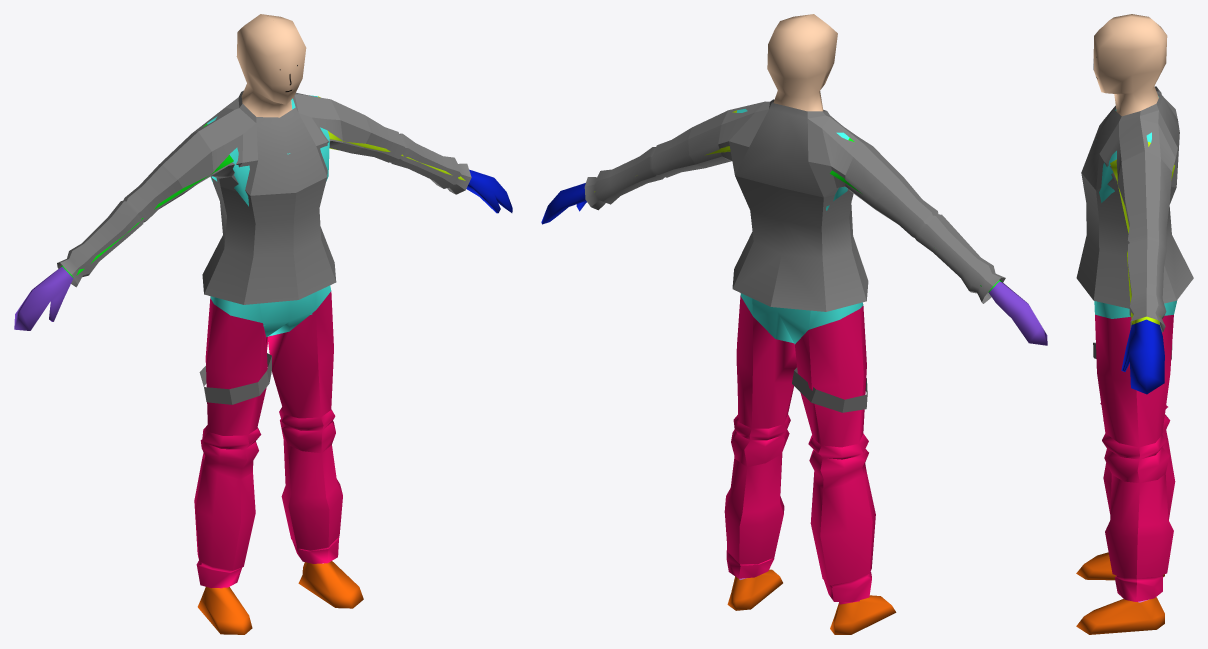
The model's file is Naomi.obj.
3 renders of one model, left to right at view 1: azimuth 30°, elevation 25°; view 2: azimuth 150°, elevation 25°; view 3: azimuth 270°, elevation 25°, orthographic.
Parts seen in each view (by area): view 1: pCylinder3, pasted__HumanoidBase_NotOverlapping group, HumanoidBase_NotOverlapping, pCylinder4; view 2: pCylinder3, pasted__HumanoidBase_NotOverlapping group, HumanoidBase_NotOverlapping, pCylinder4; view 3: pCylinder3, pasted__HumanoidBase_NotOverlapping group, HumanoidBase_NotOverlapping.
Part boxes in pixels (<box>): pCylinder3: <box>57,90,471,304</box>; pasted__HumanoidBase_NotOverlapping group: <box>194,285,342,588</box>; HumanoidBase_NotOverlapping: <box>14,14,512,634</box>; pCylinder4: <box>199,353,271,404</box>; pCylinder3: <box>584,99,1005,311</box>; pasted__HumanoidBase_NotOverlapping group: <box>724,293,875,602</box>; HumanoidBase_NotOverlapping: <box>541,14,1047,634</box>; pCylinder4: <box>792,367,867,412</box>; pCylinder3: <box>1076,86,1193,332</box>; pasted__HumanoidBase_NotOverlapping group: <box>1094,300,1177,601</box>; HumanoidBase_NotOverlapping: <box>1076,14,1174,634</box>.
Size of the model in its own units: 130 by 146 by 26.69.
Materials: 3 (2 with a texture image).
